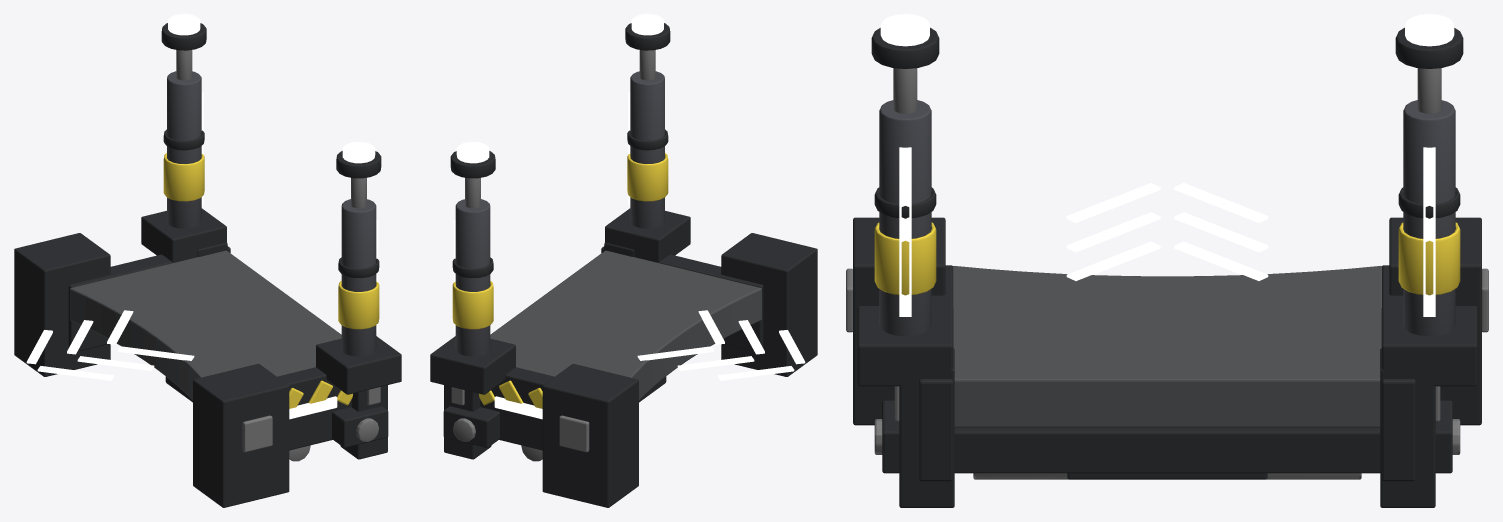
File: Relay_Retract_v2.glb
The picture shows the model from 3 angles, left to right: view 1: azimuth 30°, elevation 25°; view 2: azimuth 150°, elevation 25°; view 3: azimuth 270°, elevation 25°; orthographic projection. The views are drawn at different scales.
Parts seen in each view (by area): view 1: Relay_Retract_v2; view 2: Relay_Retract_v2; view 3: Relay_Retract_v2.
Part boxes in pixels (<box>): Relay_Retract_v2: <box>14,14,401,507</box>; Relay_Retract_v2: <box>430,14,817,507</box>; Relay_Retract_v2: <box>846,14,1488,507</box>.
Size of the model in its own units: 3.04 by 3.45 by 4.17.
